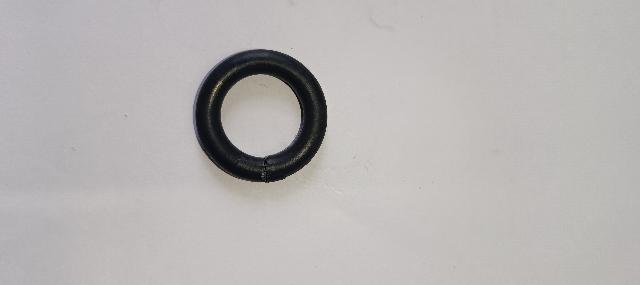crack: (226, 148, 273, 196)
